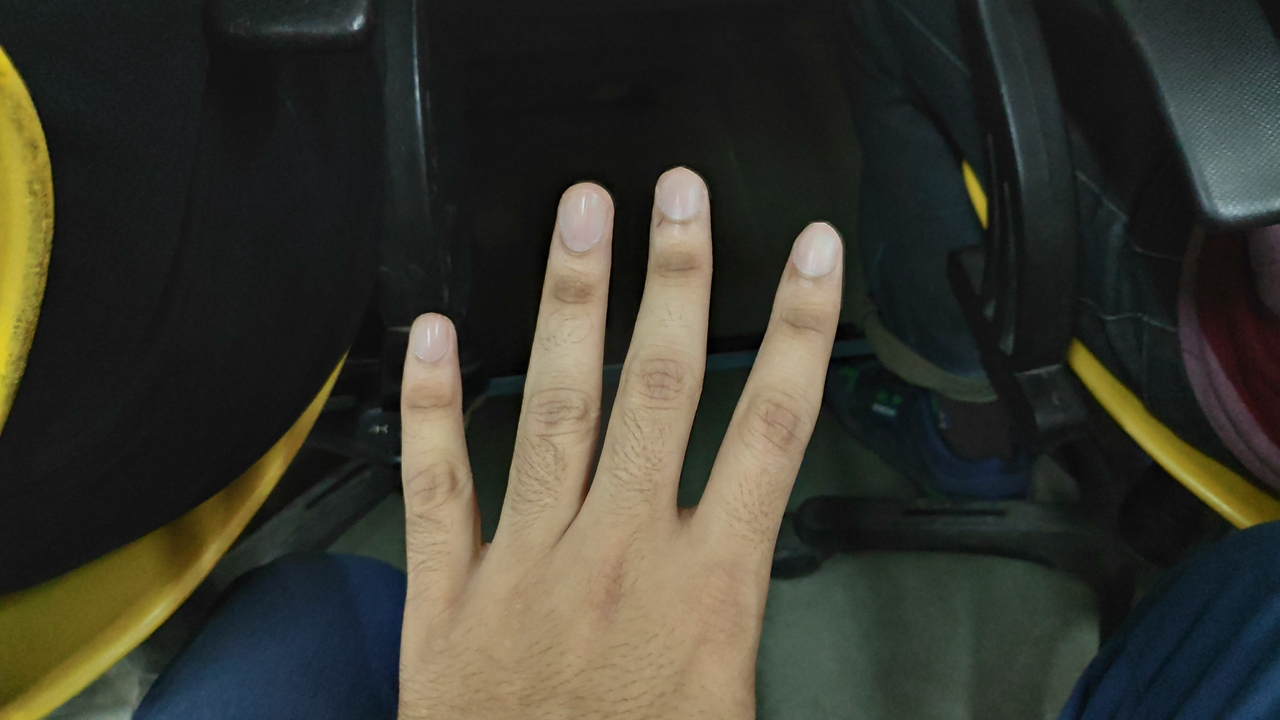fingertip: (778, 216, 854, 292), (550, 176, 624, 248), (642, 166, 718, 234), (392, 308, 462, 374)
